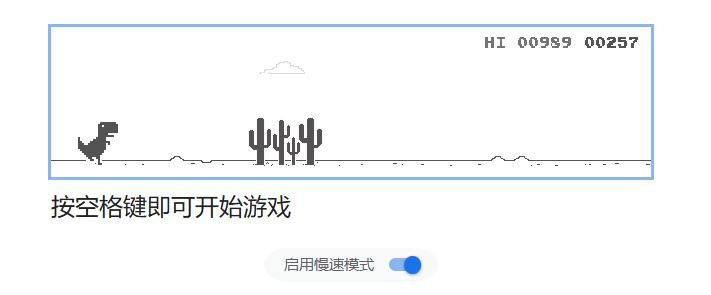cactus: (248, 118, 324, 168)
dino: (75, 121, 119, 166)
